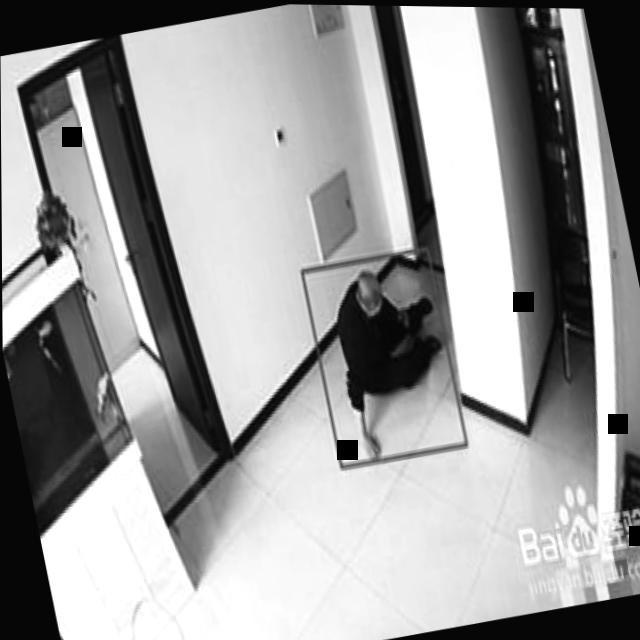Fall-Detected: (312, 245, 464, 451)
